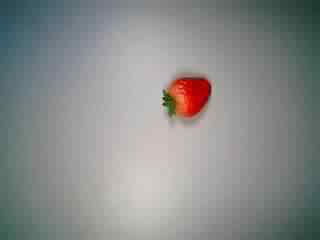strawberry: (149, 68, 215, 130)
